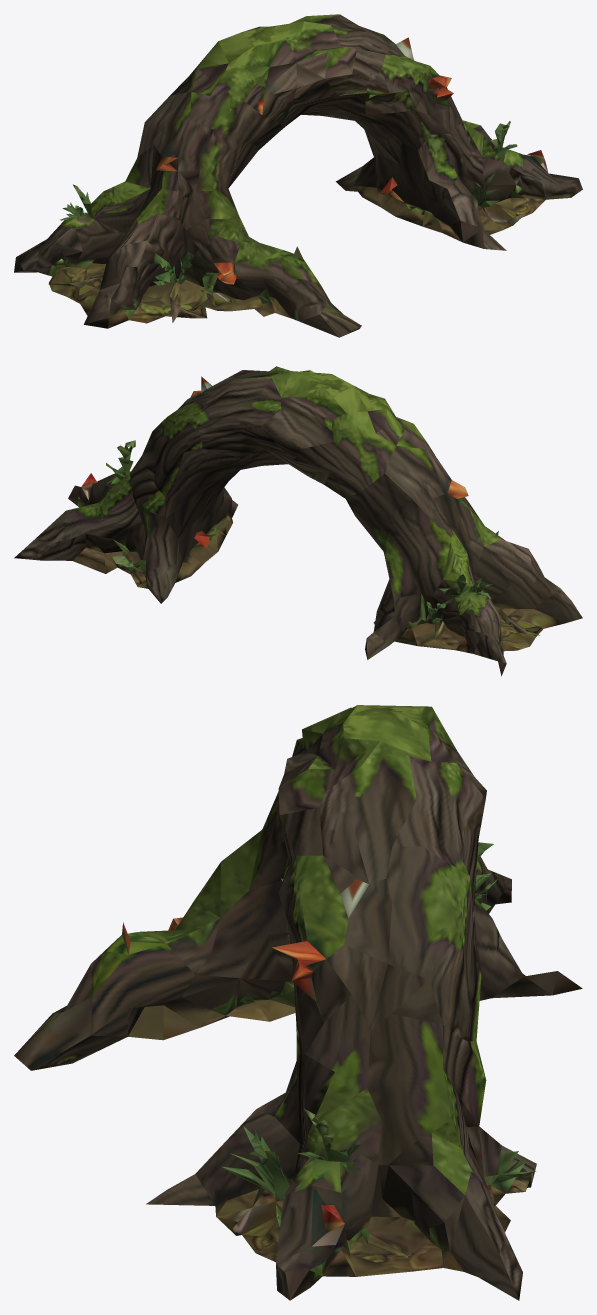
The model's file is raiz_gigante.glb.
The picture shows the model from 3 angles, top to bottom: view 1: azimuth 30°, elevation 25°; view 2: azimuth 150°, elevation 25°; view 3: azimuth 270°, elevation 25°; orthographic projection. The views are drawn at different scales.
Parts seen in each view (by area): view 1: geometry_0; view 2: geometry_0; view 3: geometry_0.
Part boxes in pixels (x1=…): geometry_0: x1=14, y1=14, x2=582, y2=337; geometry_0: x1=14, y1=366, x2=582, y2=676; geometry_0: x1=14, y1=705, x2=582, y2=1300.
Size of the model in its own units: 0.9652 by 0.4044 by 0.5555.
1 material, 1 textured.
